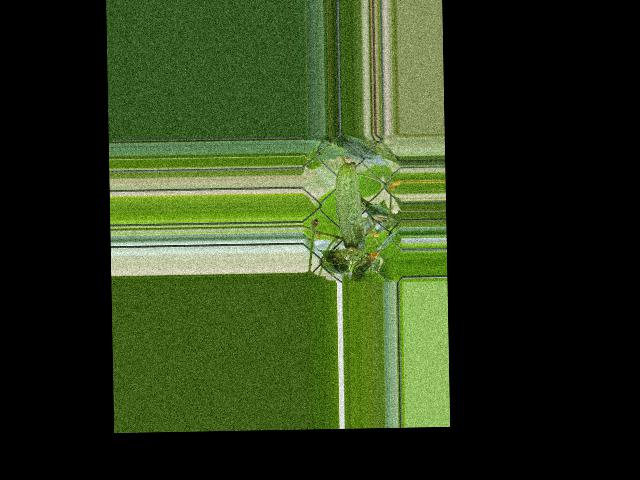cucumber: (335, 157, 364, 255)
